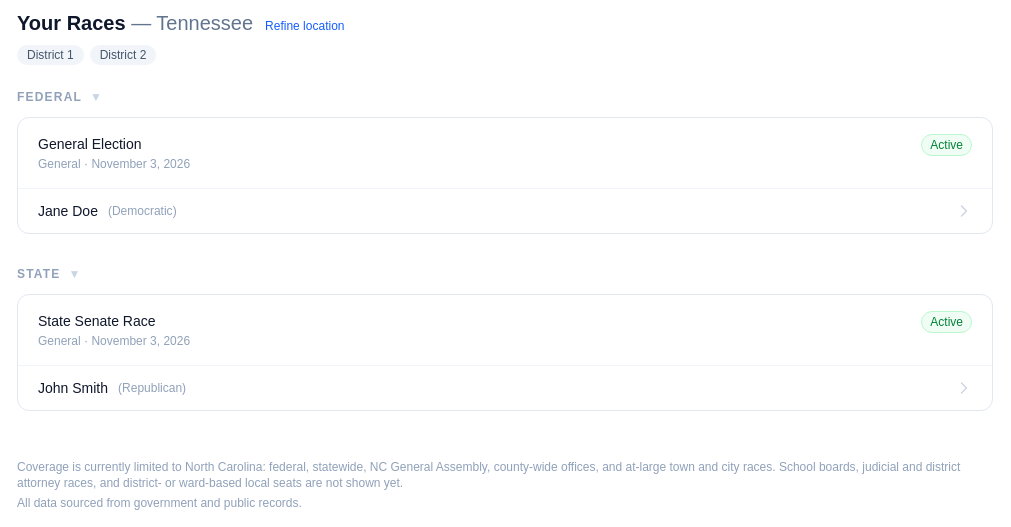
Test: Dashboard › groups elections by level into collapsible sections
Expected: the text "Federal" is shown, x1=17 y1=89 x2=82 y2=105
Expected: the text "State" is shown, x1=17 y1=266 x2=61 y2=282
Note: Collapse the Federal section via its toggle button.
Click the button "Federal ▼" at (50, 97), box x1=17 y1=89 x2=993 y2=105
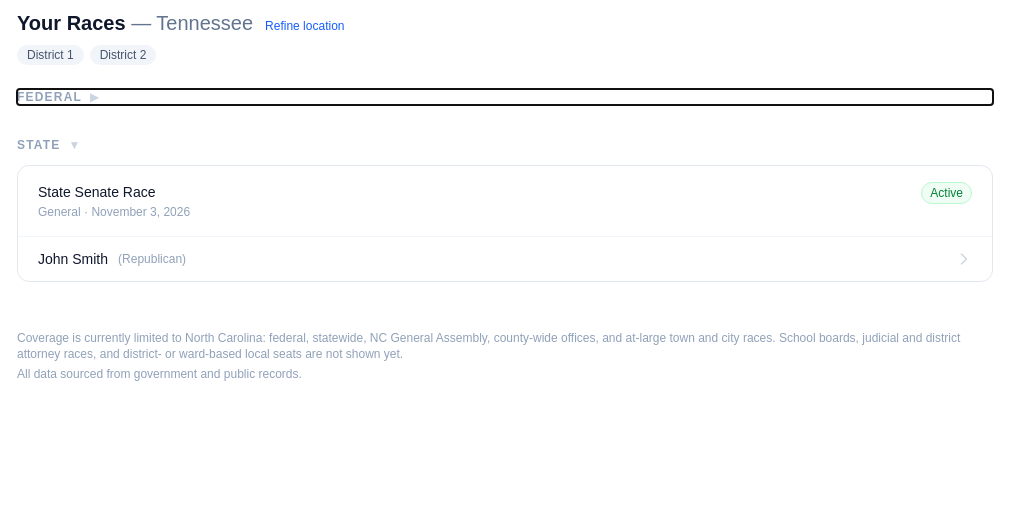
Expected: the text "John Smith" is shown, x1=38 y1=249 x2=108 y2=269
Result: the link "Jane Doe" is gone
Note: Expand it again.
Click the button "Federal ▶" at (50, 97), box x1=17 y1=89 x2=993 y2=105
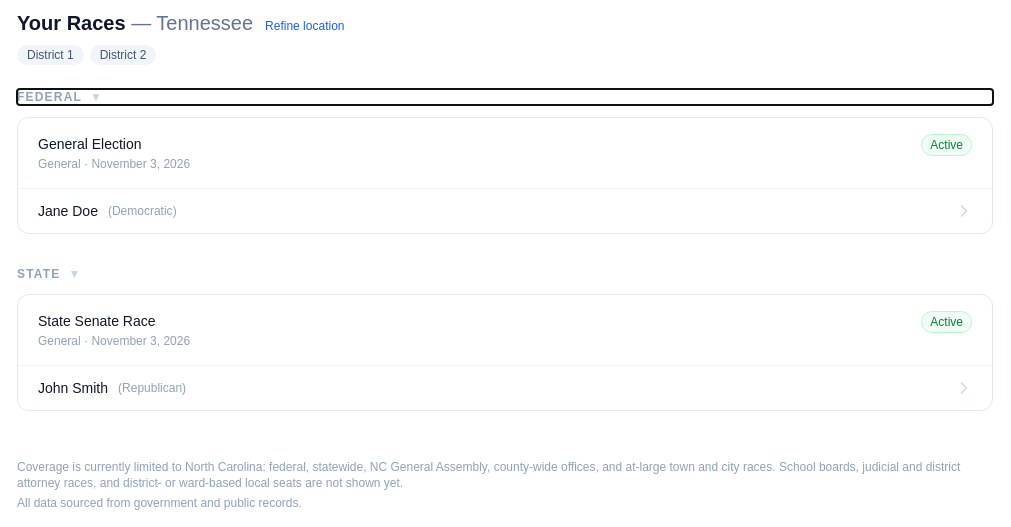
Result: the text "Jane Doe" is shown at x1=38 y1=201 x2=98 y2=221
